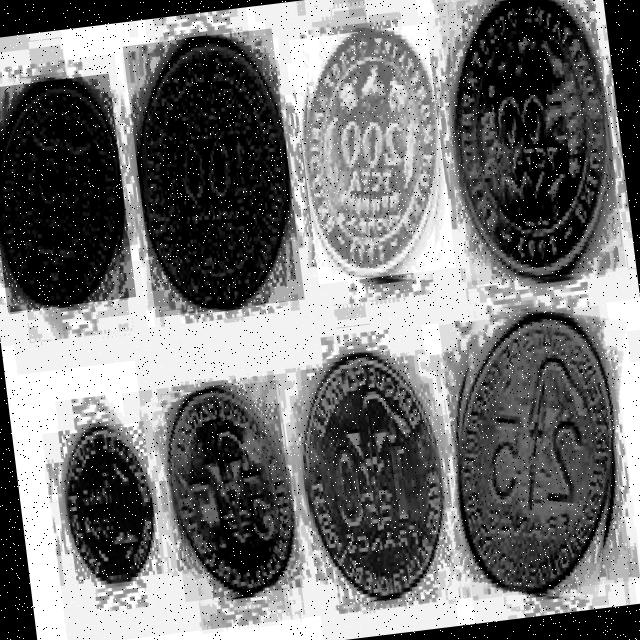derem: (168, 388, 293, 594)
fukk: (0, 79, 120, 305)
juroom derem: (456, 312, 613, 593)
niaari derem: (303, 354, 442, 598)
niaari fukk: (138, 37, 287, 308)
nient fukk: (306, 29, 437, 277)
teemeer: (453, 0, 608, 278)
